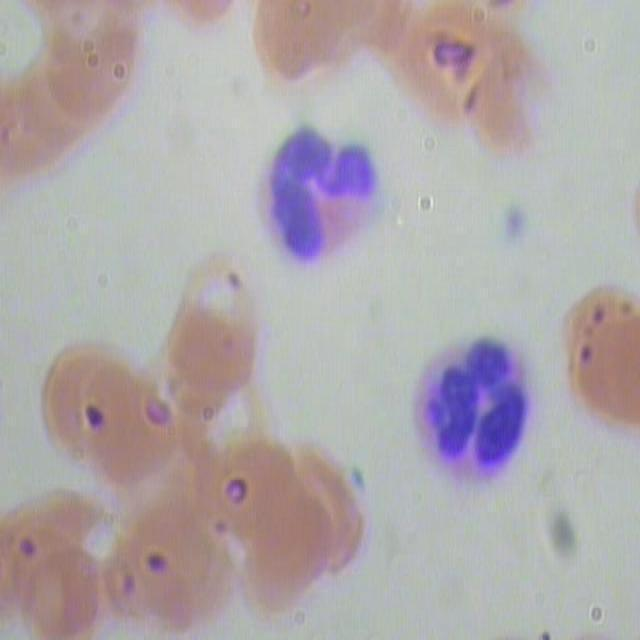Platelets: (495, 193, 534, 243)
RBC: (166, 257, 266, 400), (33, 328, 133, 471), (557, 277, 640, 440), (244, 498, 337, 618), (17, 549, 111, 639)
WBC: (253, 118, 387, 274), (404, 342, 538, 498)
